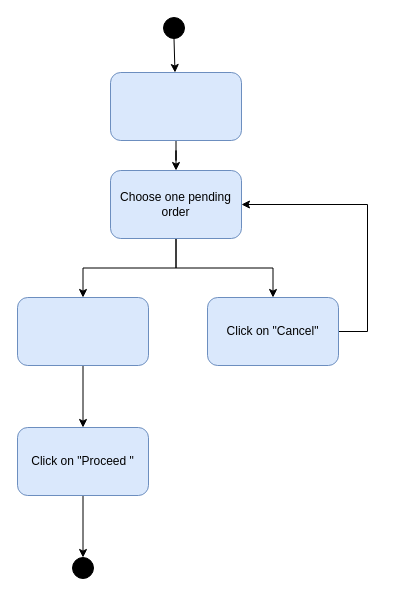
The diagram is 393 pixels wide and 596 high, and some of its shapes have lost their labels. The shapes that lost their labels are listed below. From the top down, each one's box as (x1, y1, x2, y2) in pixels, then its label:
(110, 72, 242, 140): Click on ORDER section
(16, 296, 148, 366): Click on the "Check storage"
